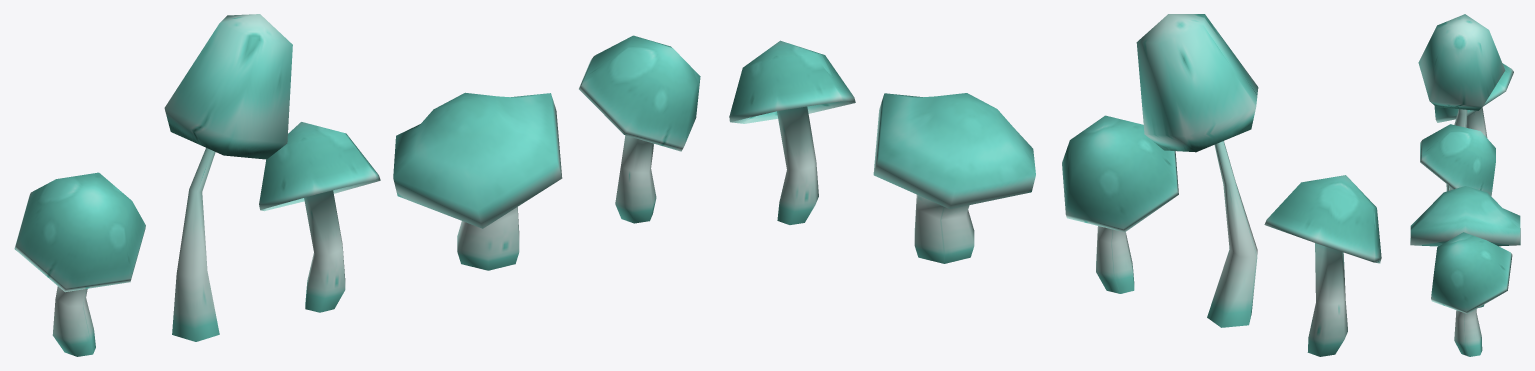
File: yingguangmogu.FBX
The picture shows the model from 3 angles, left to right: view 1: azimuth 30°, elevation 25°; view 2: azimuth 150°, elevation 25°; view 3: azimuth 270°, elevation 25°; orthographic projection. The views are drawn at different scales.
Parts seen in each view (by area): view 1: yingguangmogu02, yingguangmogu04, yingguangmogu05, yingguangmogu01, yingguangmogu03; view 2: yingguangmogu02, yingguangmogu04, yingguangmogu03, yingguangmogu01, yingguangmogu05; view 3: yingguangmogu04, yingguangmogu01, yingguangmogu02, yingguangmogu03, yingguangmogu05.
Boxes of the visible parts, left/top/right/bottom form: yingguangmogu02: left=393, top=92, right=562, bottom=270; yingguangmogu04: left=164, top=14, right=292, bottom=341; yingguangmogu05: left=14, top=172, right=145, bottom=356; yingguangmogu01: left=579, top=35, right=700, bottom=223; yingguangmogu03: left=259, top=122, right=380, bottom=312; yingguangmogu02: left=873, top=93, right=1035, bottom=263; yingguangmogu04: left=1136, top=14, right=1258, bottom=327; yingguangmogu03: left=1062, top=115, right=1178, bottom=293; yingguangmogu01: left=729, top=40, right=855, bottom=224; yingguangmogu05: left=1264, top=175, right=1381, bottom=356; yingguangmogu04: left=1418, top=14, right=1505, bottom=191; yingguangmogu01: left=1431, top=232, right=1512, bottom=356; yingguangmogu02: left=1410, top=186, right=1520, bottom=307; yingguangmogu03: left=1420, top=124, right=1495, bottom=196; yingguangmogu05: left=1434, top=63, right=1513, bottom=137.
Size of the model in its own units: 298 by 63.65 by 129.
